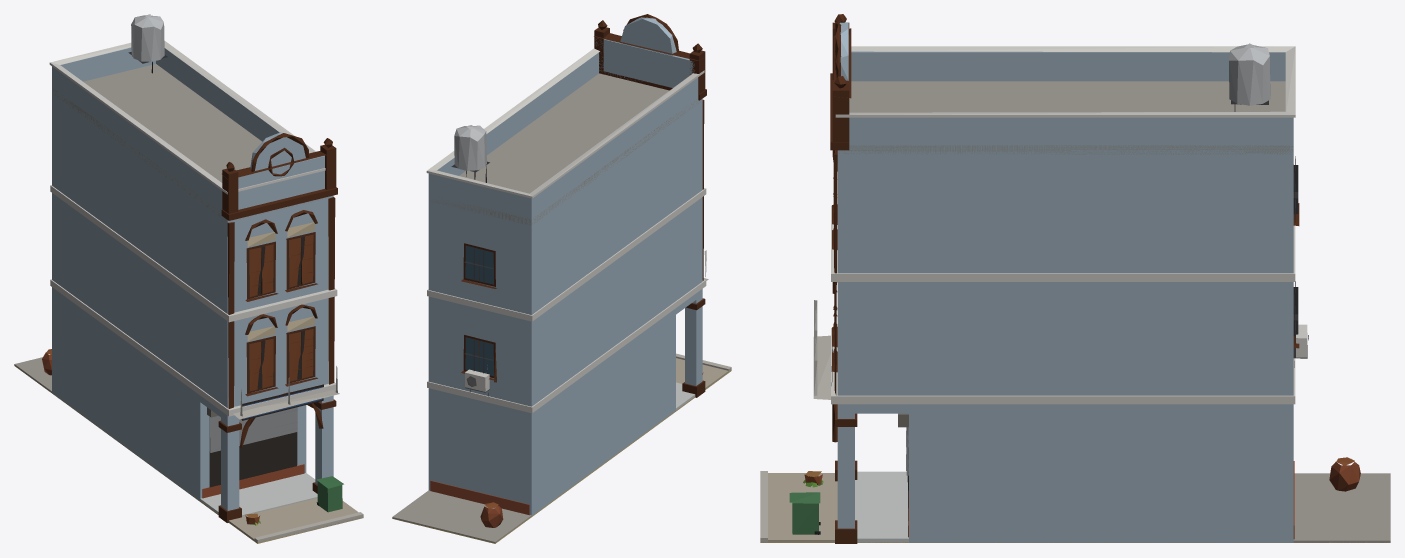
The model's file is bay2_mid.glb.
3 renders of one model, left to right at view 1: azimuth 30°, elevation 25°; view 2: azimuth 150°, elevation 25°; view 3: azimuth 270°, elevation 25°, orthographic. The views are drawn at different scales.
Parts seen in each view (by area): view 1: body, windows; view 2: body, windows; view 3: body.
Part boxes in pixels (bbox=[...]): body: bbox=[14, 14, 363, 543]; windows: bbox=[209, 234, 313, 487]; body: bbox=[392, 14, 731, 543]; windows: bbox=[465, 245, 493, 376]; body: bbox=[760, 14, 1390, 543].
Bounding box in the file's own units: 4.12 × 13.84 × 15.9.
